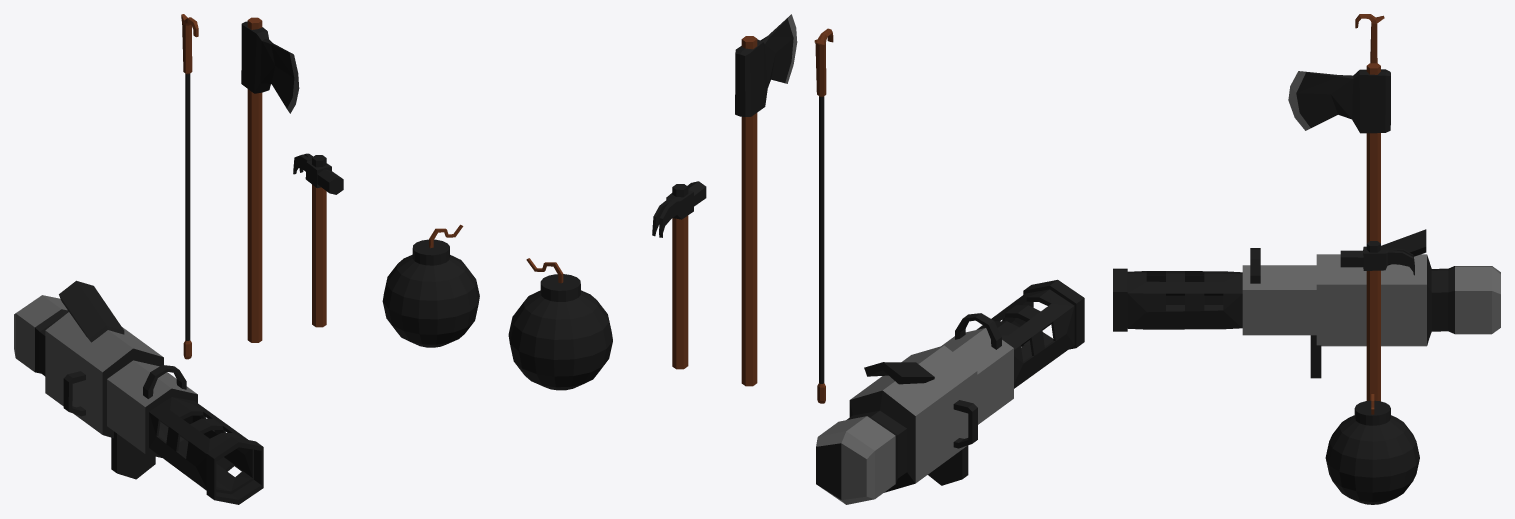
File: Stuff1.fbx
The picture shows the model from 3 angles, left to right: view 1: azimuth 30°, elevation 25°; view 2: azimuth 150°, elevation 25°; view 3: azimuth 270°, elevation 25°; orthographic projection. The views are drawn at different scales.
Visible parts, largest first — view 1: Cube.003, Sphere, Cube.001, Cube.002, Cube; view 2: Cube.003, Sphere, Cube.001, Cube.002, Cube; view 3: Cube.003, Sphere, Cube.001, Cube.002, Cube.
Part boxes in pixels (x1,y1,x2,y2): Cube.003: (14, 280, 263, 504); Sphere: (382, 224, 479, 347); Cube.001: (241, 17, 299, 342); Cube.002: (293, 153, 343, 327); Cube: (181, 14, 198, 359); Cube.003: (816, 279, 1084, 504); Sphere: (508, 258, 612, 390); Cube.001: (735, 14, 797, 386); Cube.002: (652, 181, 706, 369); Cube: (814, 28, 833, 403); Cube.003: (1113, 229, 1500, 378); Sphere: (1325, 394, 1419, 504); Cube.001: (1288, 63, 1390, 243); Cube.002: (1340, 241, 1414, 401); Cube: (1355, 14, 1384, 63).
Bounding box in the file's own units: 144 × 138 × 120.
